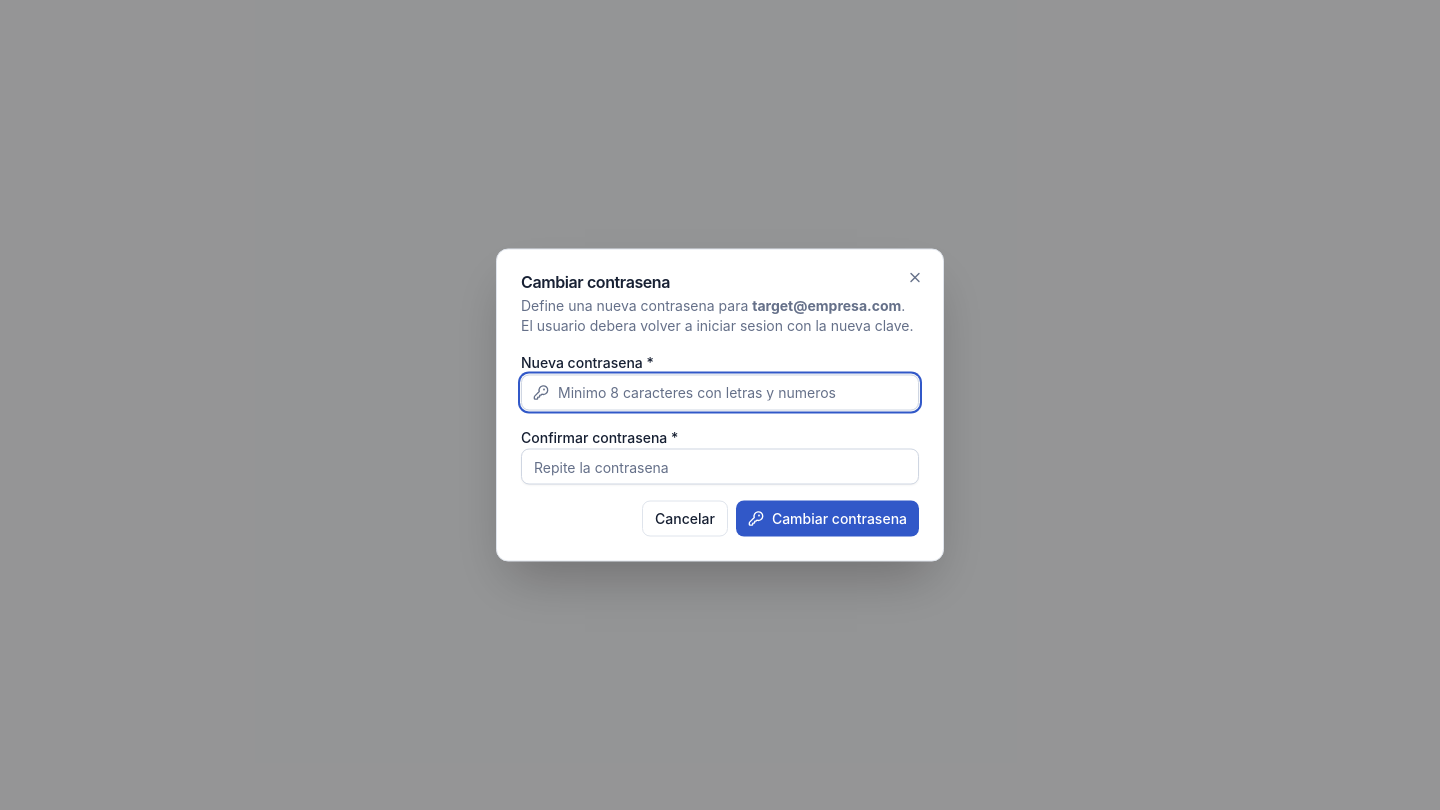
ChangePasswordDialog › bloquea cuando las contrasenas no coinciden
Type "NuevaClave123" into the password field with test id "user-new-password" at coordinates (720, 392), box x1=521 y1=374 x2=919 y2=410
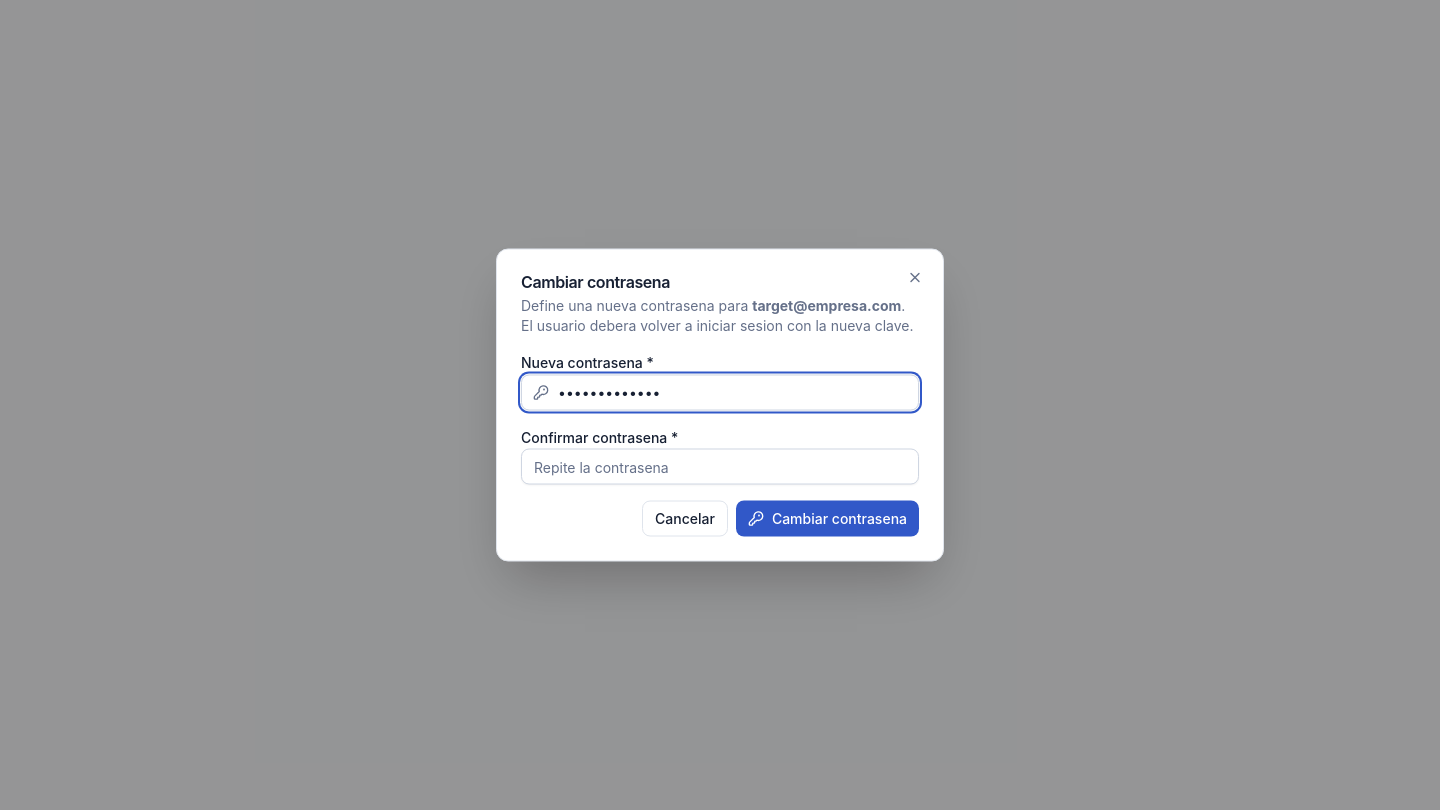
Type "OtraClave456" into the password field with test id "user-confirm-password" at coordinates (720, 466), box x1=521 y1=448 x2=919 y2=484
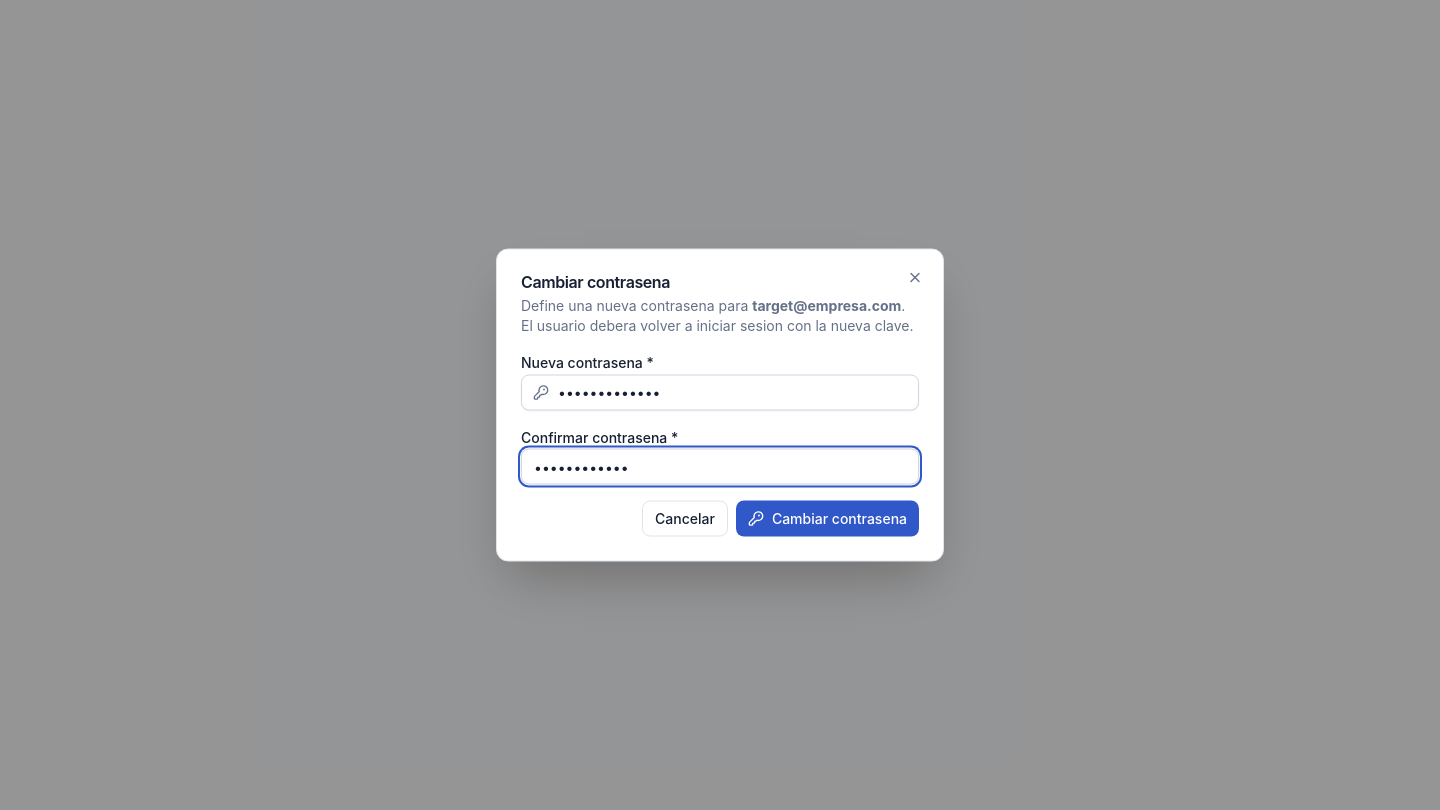
Click the button with test id "user-change-password-submit" at coordinates (827, 518), box x1=736 y1=500 x2=919 y2=536
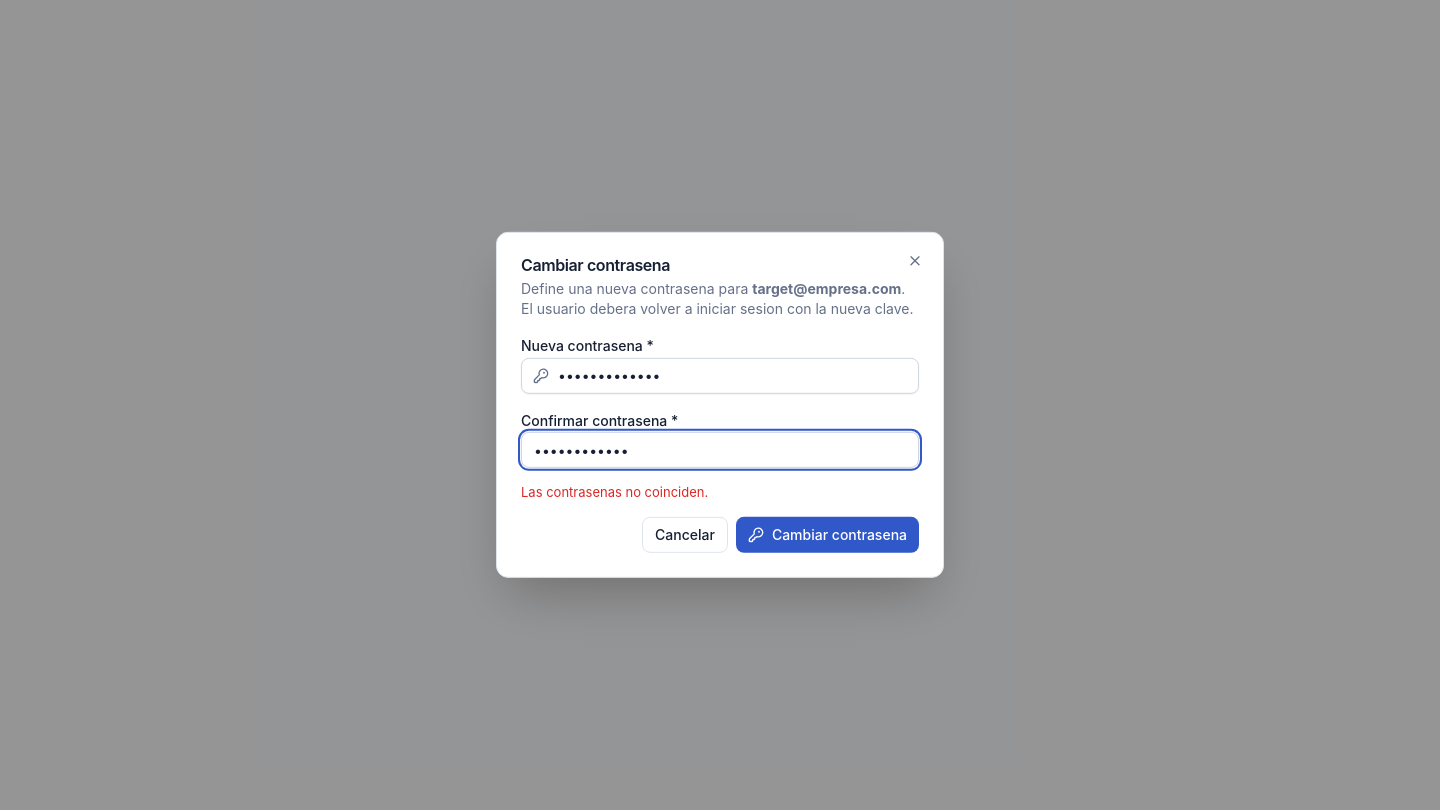
Expected: the text "Las contrasenas no coinciden." is shown, x1=521 y1=484 x2=708 y2=500
